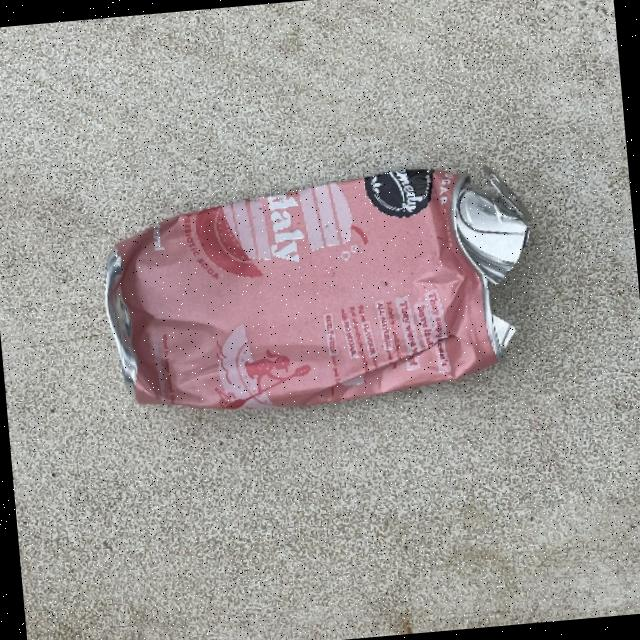metal: (95, 156, 544, 424)
